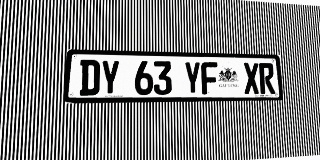3: (154, 61, 172, 95)
6: (135, 61, 153, 95)
D: (79, 60, 100, 96)
F: (201, 62, 218, 94)
R: (259, 63, 275, 94)
X: (243, 63, 260, 94)
Y: (100, 60, 120, 95), (184, 61, 201, 95)
